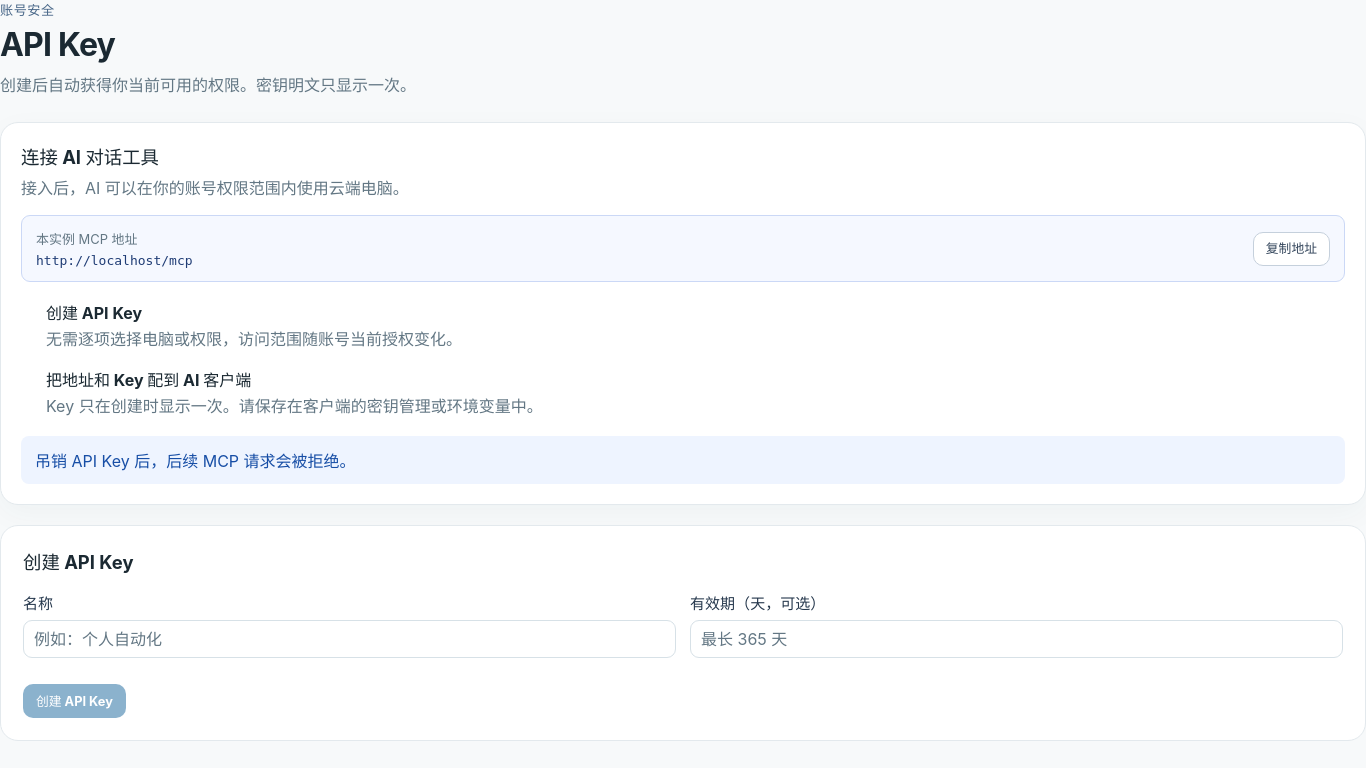
Test: ApiKeys › creates a full-access key without host or permission selection
Check: the button "创建 API Key" is disabled, box [23,684,126,718]
Type "我的 MCP" into the field labelled "名称" at {"x": 350, "y": 639}, box [23,620,676,658]
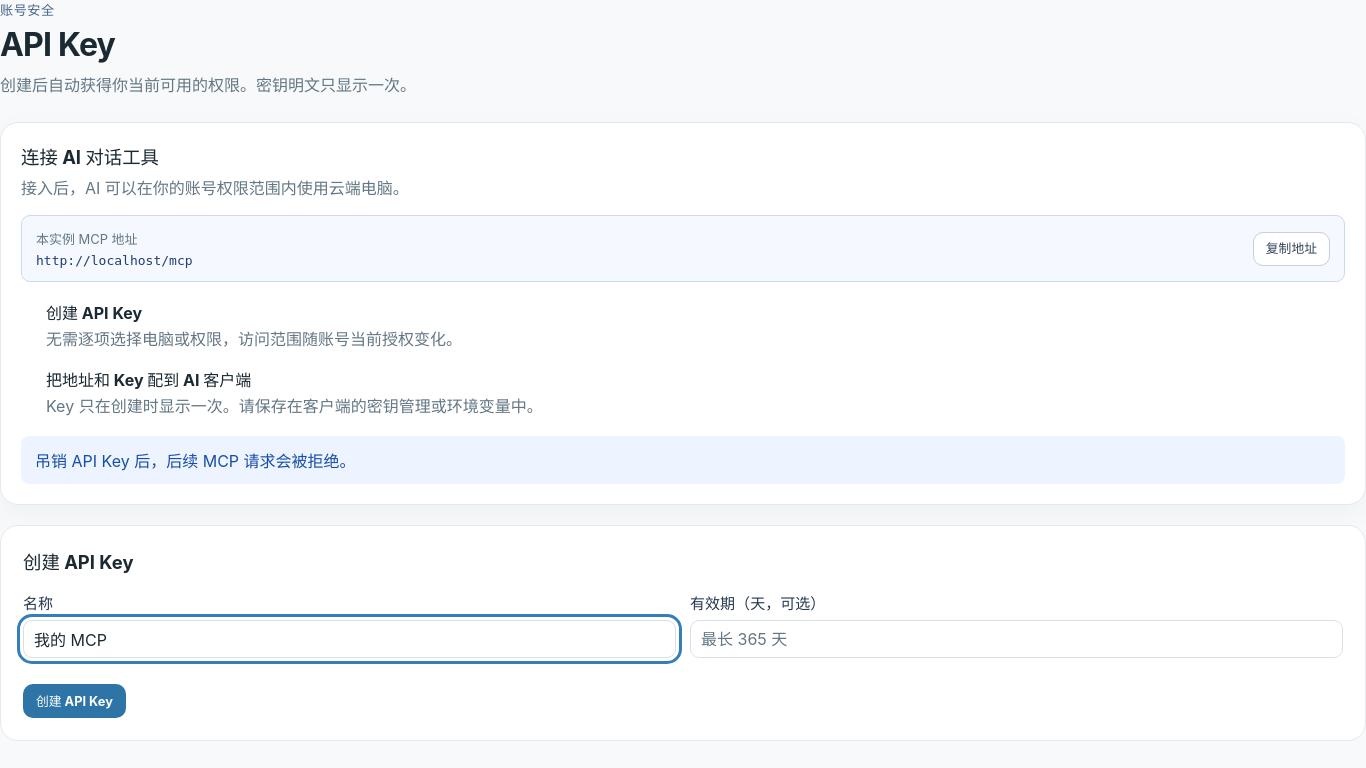
Check: the button "创建 API Key" is enabled
Click the button "创建 API Key" at {"x": 74, "y": 701}, box [23,684,126,718]
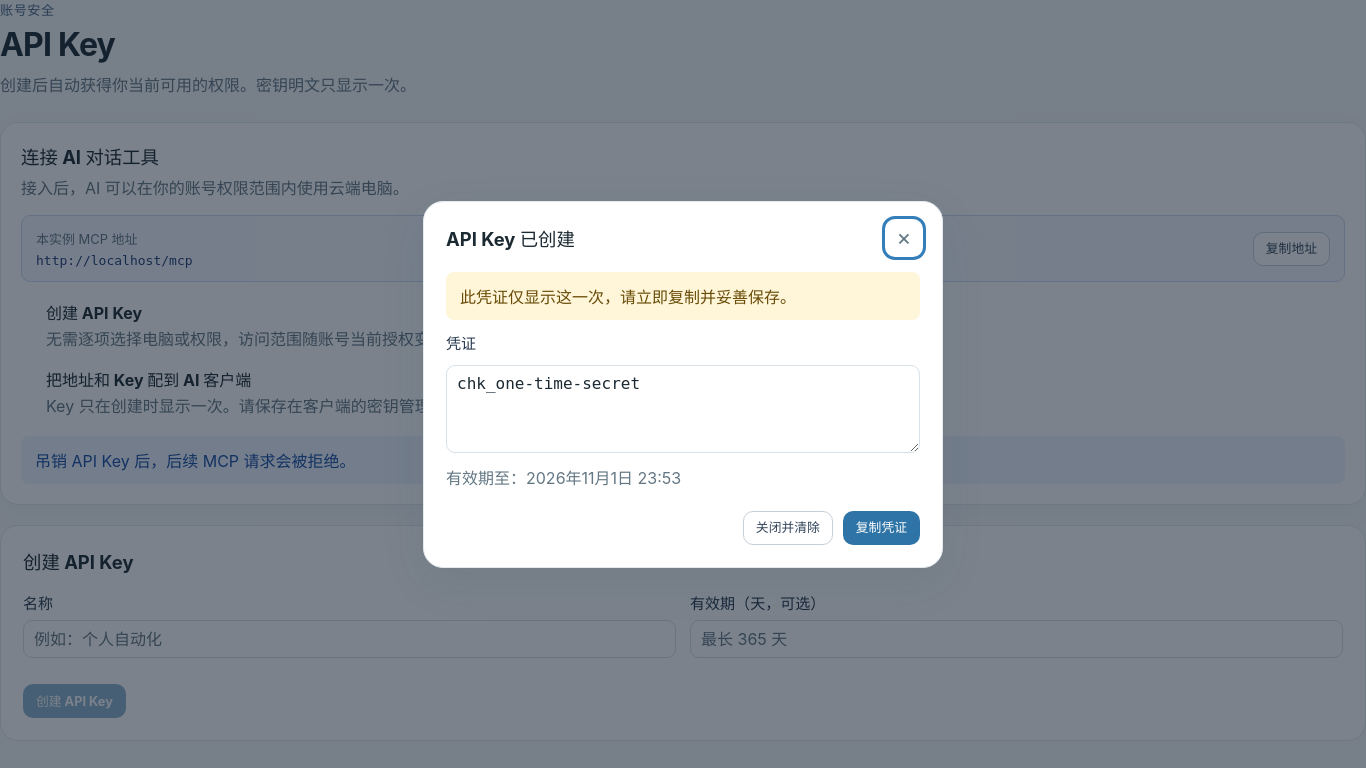
Check: the text box "chk_one-time-secret" is shown, box [446,364,920,452]
